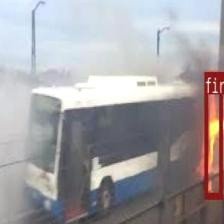fire: (204, 71, 222, 198)
